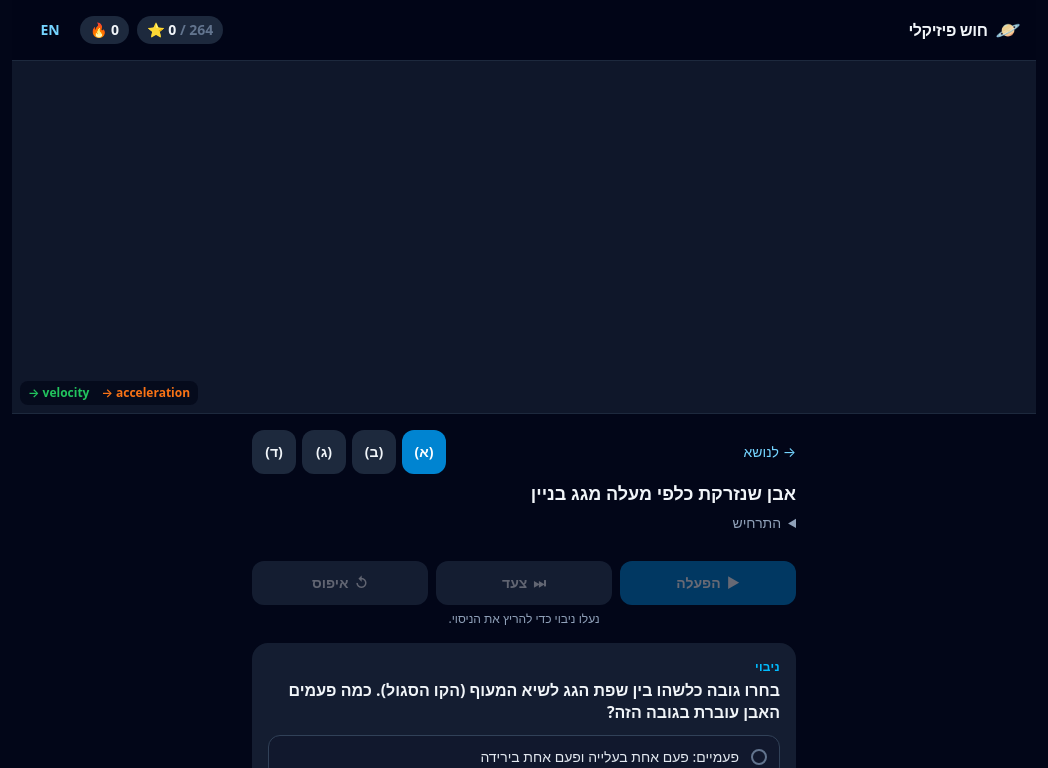
Test: QuestionScreen in Hebrew (default locale) › switches language from the header toggle
Click the button with aria-label "switch to english" at (50, 30), box left=28, top=8, right=72, bottom=52
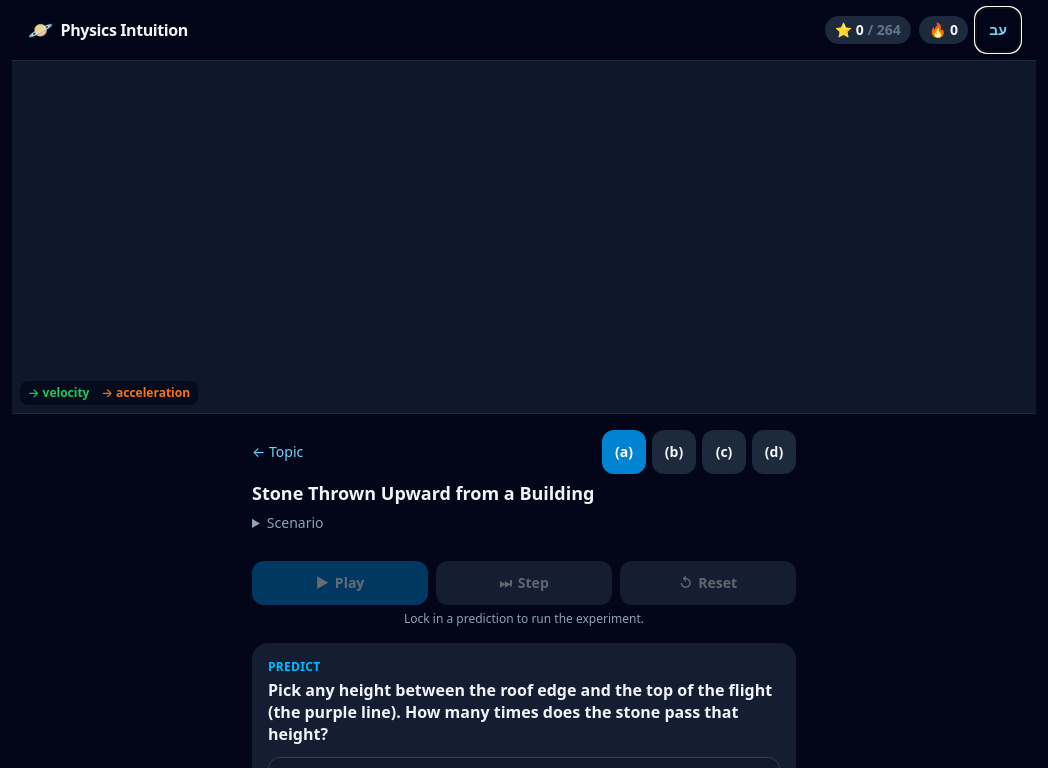
Now the heading "how many times does the stone pass" is shown, box left=268, top=679, right=772, bottom=745
Click the button with aria-label "החלפה לעברית" at (998, 30), box left=976, top=8, right=1020, bottom=52
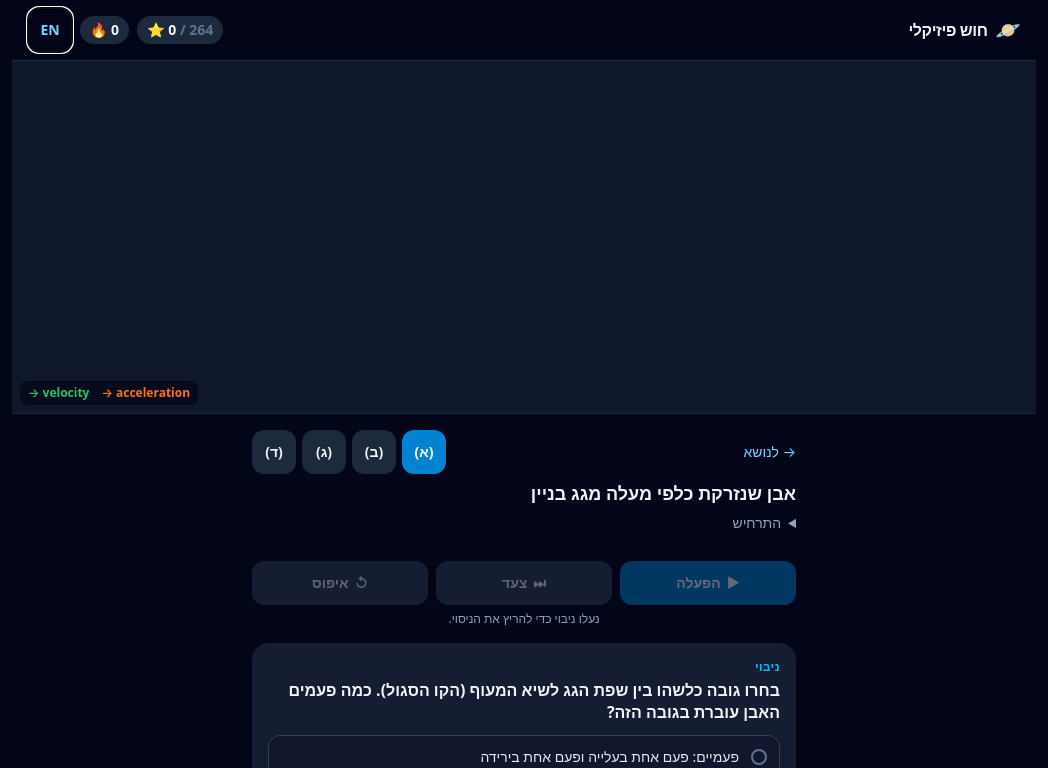
Now the heading "כמה פעמים האבן עוברת" is shown, box left=288, top=679, right=780, bottom=723
